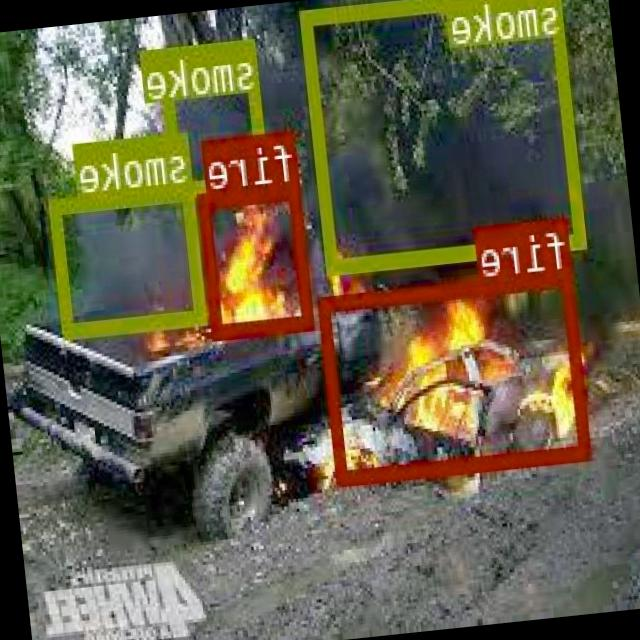fire: (321, 268, 592, 482), (200, 180, 315, 336)
smoke: (302, 0, 589, 272), (50, 181, 210, 335), (160, 35, 271, 195)
